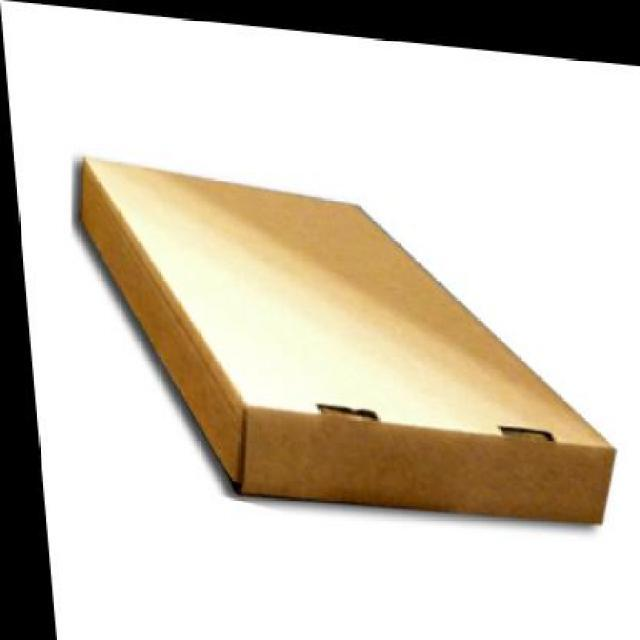box: (64, 154, 614, 517)
